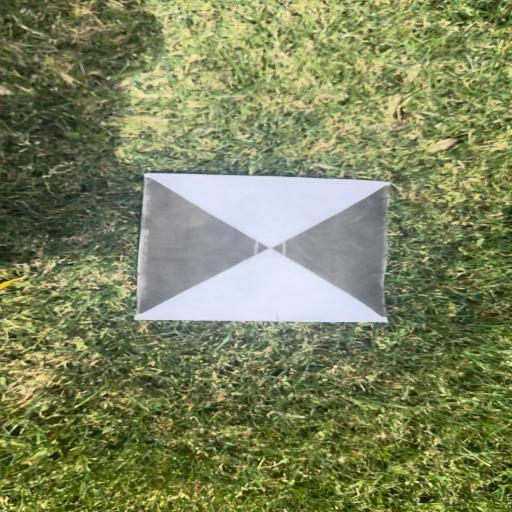target: (143, 174, 386, 322)
